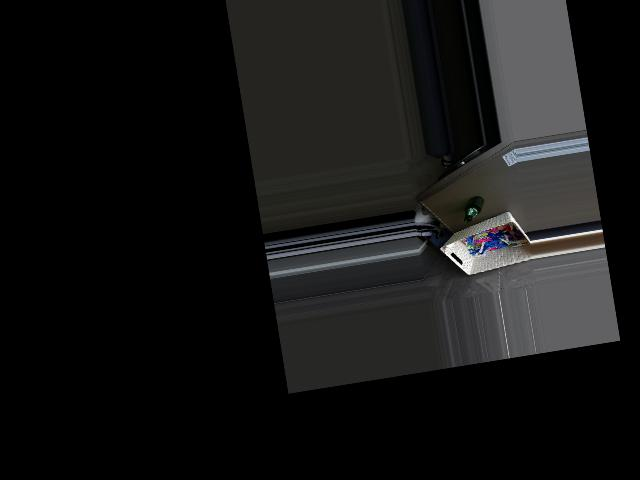beer: (460, 194, 486, 222)
